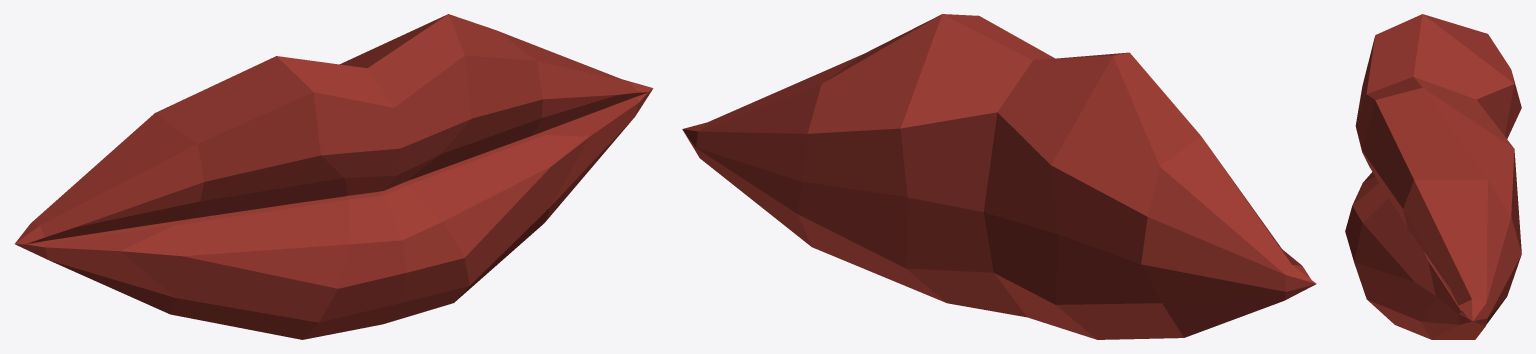
File: Low_Poly_Lips.glb
The picture shows the model from 3 angles, left to right: view 1: azimuth 30°, elevation 25°; view 2: azimuth 150°, elevation 25°; view 3: azimuth 270°, elevation 25°; orthographic projection. The views are drawn at different scales.
Visible parts, largest first — view 1: Lips_Material.005_0; view 2: Lips_Material.005_0; view 3: Lips_Material.005_0.
Part boxes in pixels (bbox=[...]): Lips_Material.005_0: bbox=[15, 14, 653, 339]; Lips_Material.005_0: bbox=[682, 14, 1316, 339]; Lips_Material.005_0: bbox=[1345, 14, 1521, 339].
Size of the model in its own units: 1.9 by 0.8068 by 0.5167.
